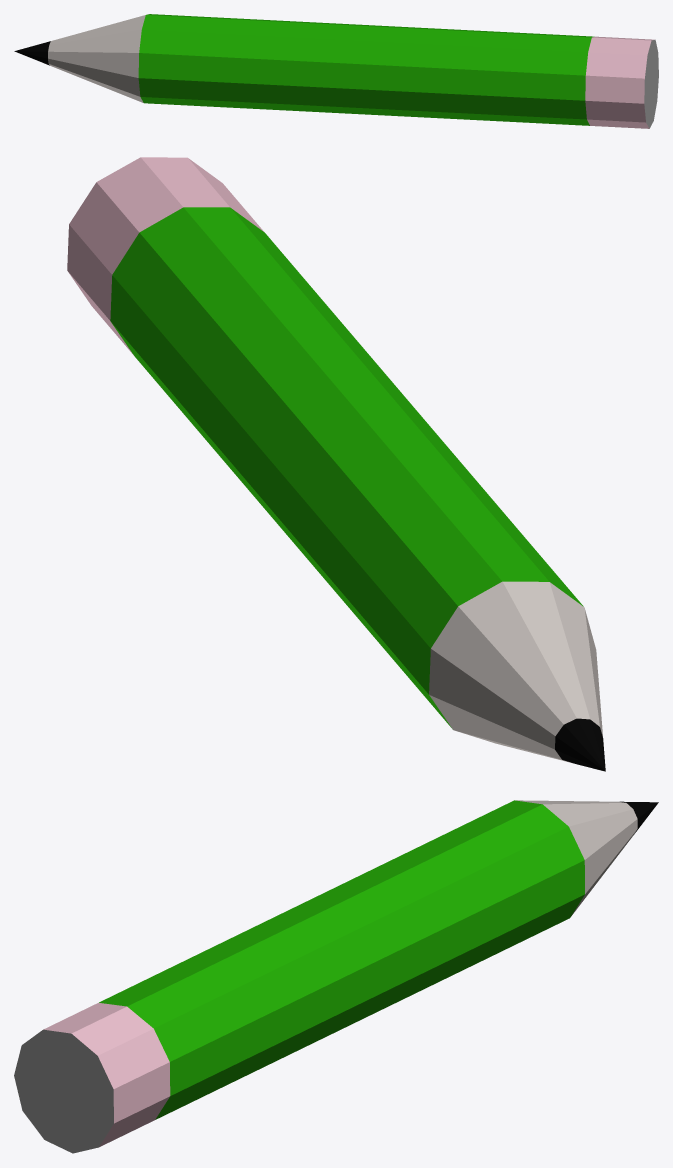
The model's file is SU_greenpen.fbx.
3 views of the same model, one above another, from view 1: azimuth 30°, elevation 25°; view 2: azimuth 150°, elevation 25°; view 3: azimuth 270°, elevation 25° (orthographic). The views are drawn at different scales.
Parts seen in each view (by area): view 1: pCylinder14; view 2: pCylinder14; view 3: pCylinder14.
Part boxes in pixels (x1=…): pCylinder14: x1=14, y1=14, x2=658, y2=128; pCylinder14: x1=67, y1=157, x2=605, y2=771; pCylinder14: x1=14, y1=800, x2=658, y2=1153.
Bounding box in the file's own units: 0.6527 × 0.124 × 0.5499.
